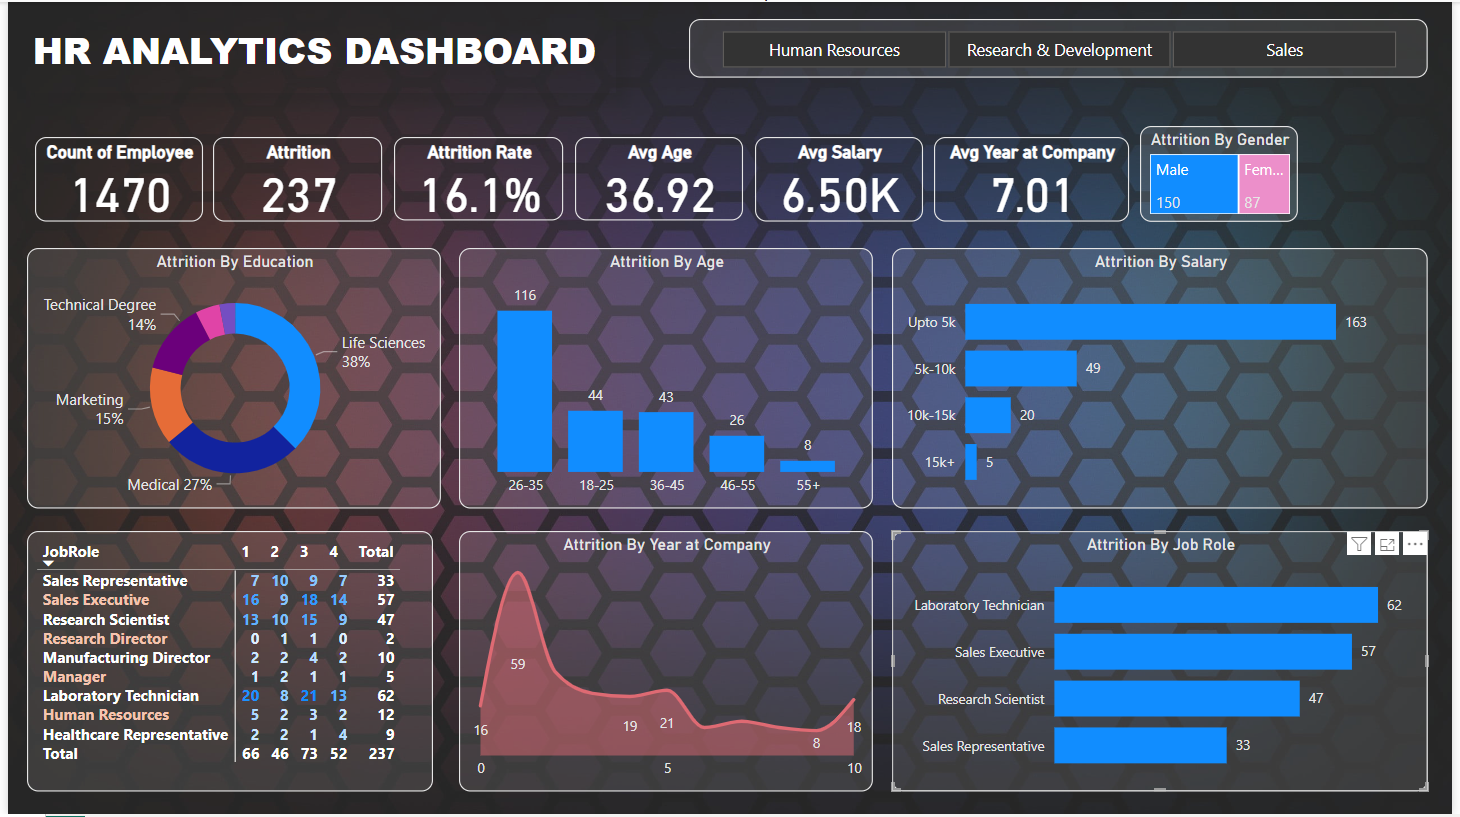

Layout of this report page (visuals, bound fields, positions):
{"tool":"powerbi","page":{"name":"Page 1","canvas":[1280,720],"ordinal":0},"visuals":[{"type":"card","title":"Count  of Employee","fields":{"Values":["CountNonNull(HR_Analytics.EmpID)"]},"box":[24,120,149,75],"z":0},{"type":"card","title":"Attrition Rate","fields":{"Values":["HR_Analytics.AttritionRate"]},"box":[342,120,150,74],"z":1000},{"type":"card","title":"Avg Age","fields":{"Values":["Avg(HR_Analytics.Age)"]},"box":[503,120,149,74],"z":2000},{"type":"card","title":"Attrition","fields":{"Values":["Sum(HR_Analytics.AttritionCount)"]},"box":[182,120,150,75],"z":3000},{"type":"card","title":"Avg Salary","fields":{"Values":["Avg(HR_Analytics.MonthlyIncome)"]},"box":[662,120,149,75],"z":4000},{"type":"card","title":"Avg Year at Company","fields":{"Values":["Avg(HR_Analytics.YearsAtCompany)"]},"box":[821,120,173,75],"z":5000},{"type":"donutChart","title":"Attrition By Education","fields":{"Category":["HR_Analytics.EducationField"],"Y":["Sum(HR_Analytics.AttritionCount)"]},"box":[16.8,218.1,367.1,230.5],"z":6000},{"type":"clusteredColumnChart","title":"Attrition By Age","fields":{"Category":["HR_Analytics.AgeGroup"],"Y":["Sum(HR_Analytics.AttritionCount)"]},"box":[399.9,218.1,367.1,230.5],"z":7000},{"type":"pivotTable","fields":{"Rows":["HR_Analytics.JobRole"],"Columns":["HR_Analytics.JobSatisfaction"],"Values":["Sum(HR_Analytics.AttritionCount)"]},"box":[16.8,469.1,360,230.5],"z":8000},{"type":"barChart","title":"Attrition By Salary","fields":{"Category":["HR_Analytics.SalarySlab"],"Y":["Sum(HR_Analytics.AttritionCount)"]},"box":[783.8,218.1,475.3,230.5],"z":9000},{"type":"barChart","title":"Attrition By Job Role","fields":{"Y":["Sum(HR_Analytics.AttritionCount)"],"Category":["HR_Analytics.JobRole"]},"box":[784,469,475,231],"z":10000},{"type":"stackedAreaChart","title":"Attrition By Year at Company","fields":{"Category":["HR_Analytics.YearsAtCompany"],"Y":["Sum(HR_Analytics.AttritionCount)"]},"box":[400,469,367,231],"z":11000},{"type":"treemap","title":"Attrition By Gender","fields":{"Group":["HR_Analytics.Gender"],"Values":["Sum(HR_Analytics.AttritionCount)"]},"box":[1004,110,140,85.1],"z":12000},{"type":"slicer","fields":{"Values":["HR_Analytics.Department"]},"box":[604,15,655,52],"z":13000},{"type":"textbox","box":[17,15,522,66],"z":14000}]}

Visuals, with their boxes in screenshot pixels (x1, y1, x2, y2), scaled from the page's 1280x720 canvas onto the 1460x817 screenshot:
"Count  of Employee" card: {"x1": 27, "y1": 136, "x2": 197, "y2": 221}
"Attrition Rate" card: {"x1": 390, "y1": 136, "x2": 561, "y2": 220}
"Avg Age" card: {"x1": 574, "y1": 136, "x2": 744, "y2": 220}
"Attrition" card: {"x1": 208, "y1": 136, "x2": 379, "y2": 221}
"Avg Salary" card: {"x1": 755, "y1": 136, "x2": 925, "y2": 221}
"Avg Year at Company" card: {"x1": 936, "y1": 136, "x2": 1134, "y2": 221}
"Attrition By Education" donutChart: {"x1": 19, "y1": 247, "x2": 438, "y2": 509}
"Attrition By Age" clusteredColumnChart: {"x1": 456, "y1": 247, "x2": 875, "y2": 509}
pivotTable - HR_Analytics.JobRole x HR_Analytics.JobSatisfaction: {"x1": 19, "y1": 532, "x2": 430, "y2": 794}
"Attrition By Salary" barChart: {"x1": 894, "y1": 247, "x2": 1436, "y2": 509}
"Attrition By Job Role" barChart: {"x1": 894, "y1": 532, "x2": 1436, "y2": 794}
"Attrition By Year at Company" stackedAreaChart: {"x1": 456, "y1": 532, "x2": 875, "y2": 794}
"Attrition By Gender" treemap: {"x1": 1145, "y1": 125, "x2": 1305, "y2": 221}
slicer - HR_Analytics.Department: {"x1": 689, "y1": 17, "x2": 1436, "y2": 76}
textbox: {"x1": 19, "y1": 17, "x2": 615, "y2": 92}
